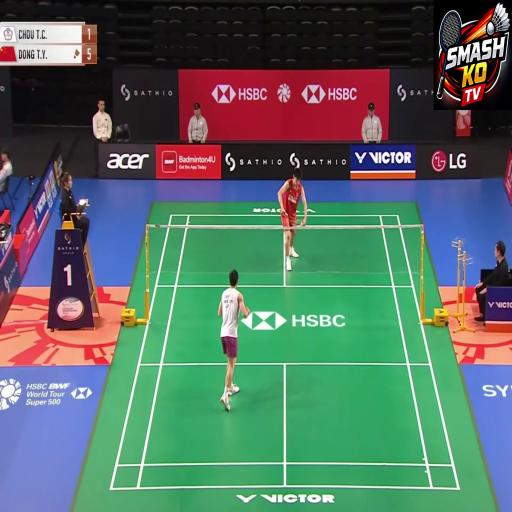player: (252, 146, 321, 284), (219, 270, 249, 410), (278, 169, 307, 270)
